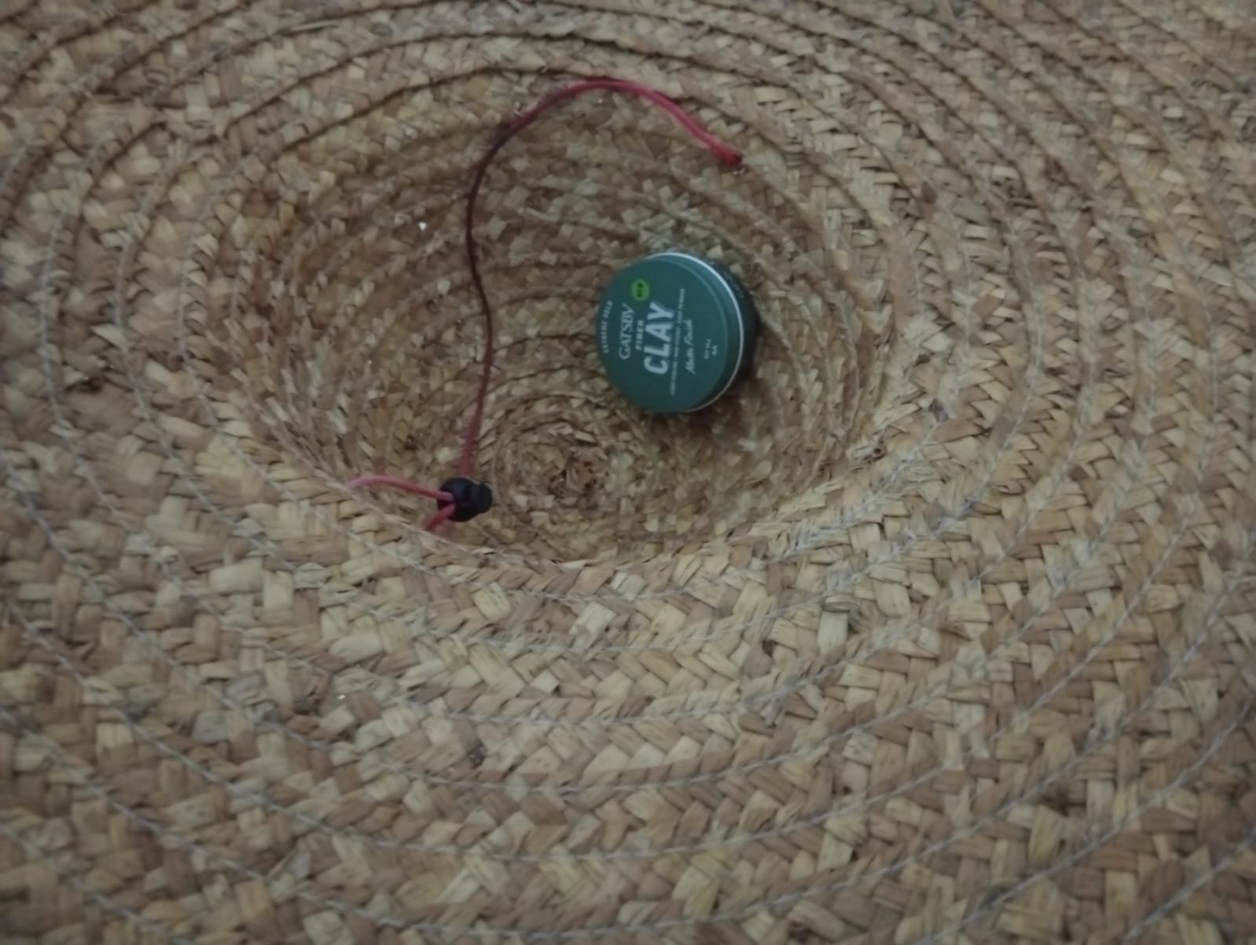Minyak_Rambut: (563, 231, 774, 434)
